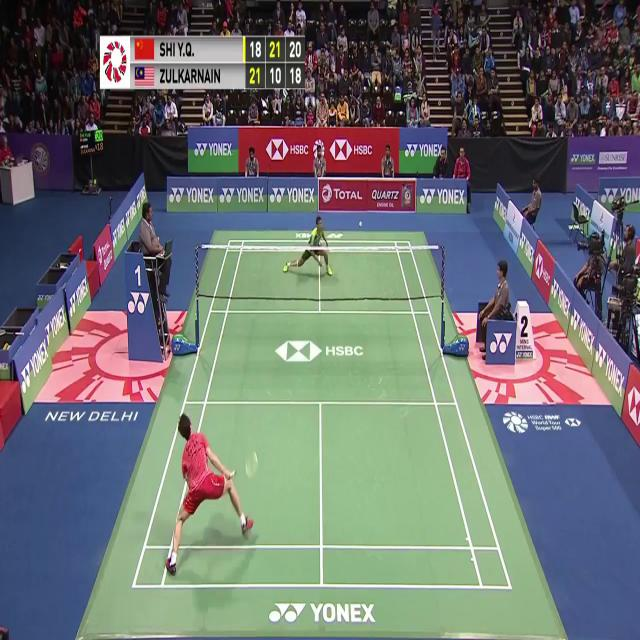Shuttlecock: (358, 217, 365, 229)
